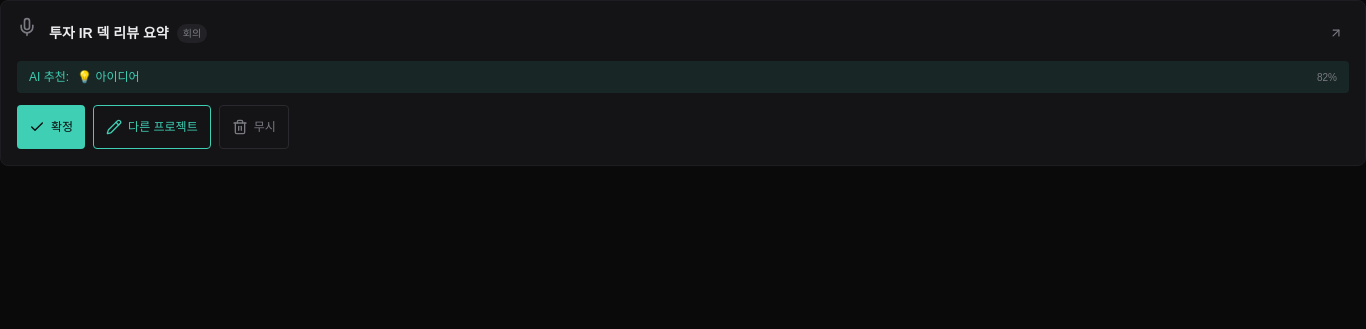
Test case: SmartInboxItemCard AI 추천 라벨 › 완료 프로젝트 추천에서 '다른 프로젝트' 를 열어도 숨은 id 로 이동할 수 없다
Click the button "다른 프로젝트". click: click(152, 127)
box: [93,105,211,149]
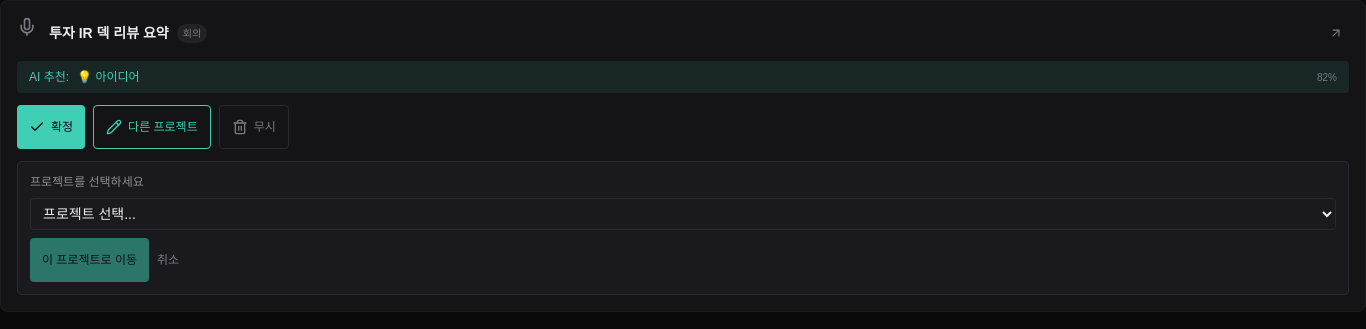
Check: the dropdown named "프로젝트 선택" shows "프로젝트 선택...", box [30,198,1336,230]
Check: the button "이 프로젝트로 이동" is disabled, box [30,238,149,282]
